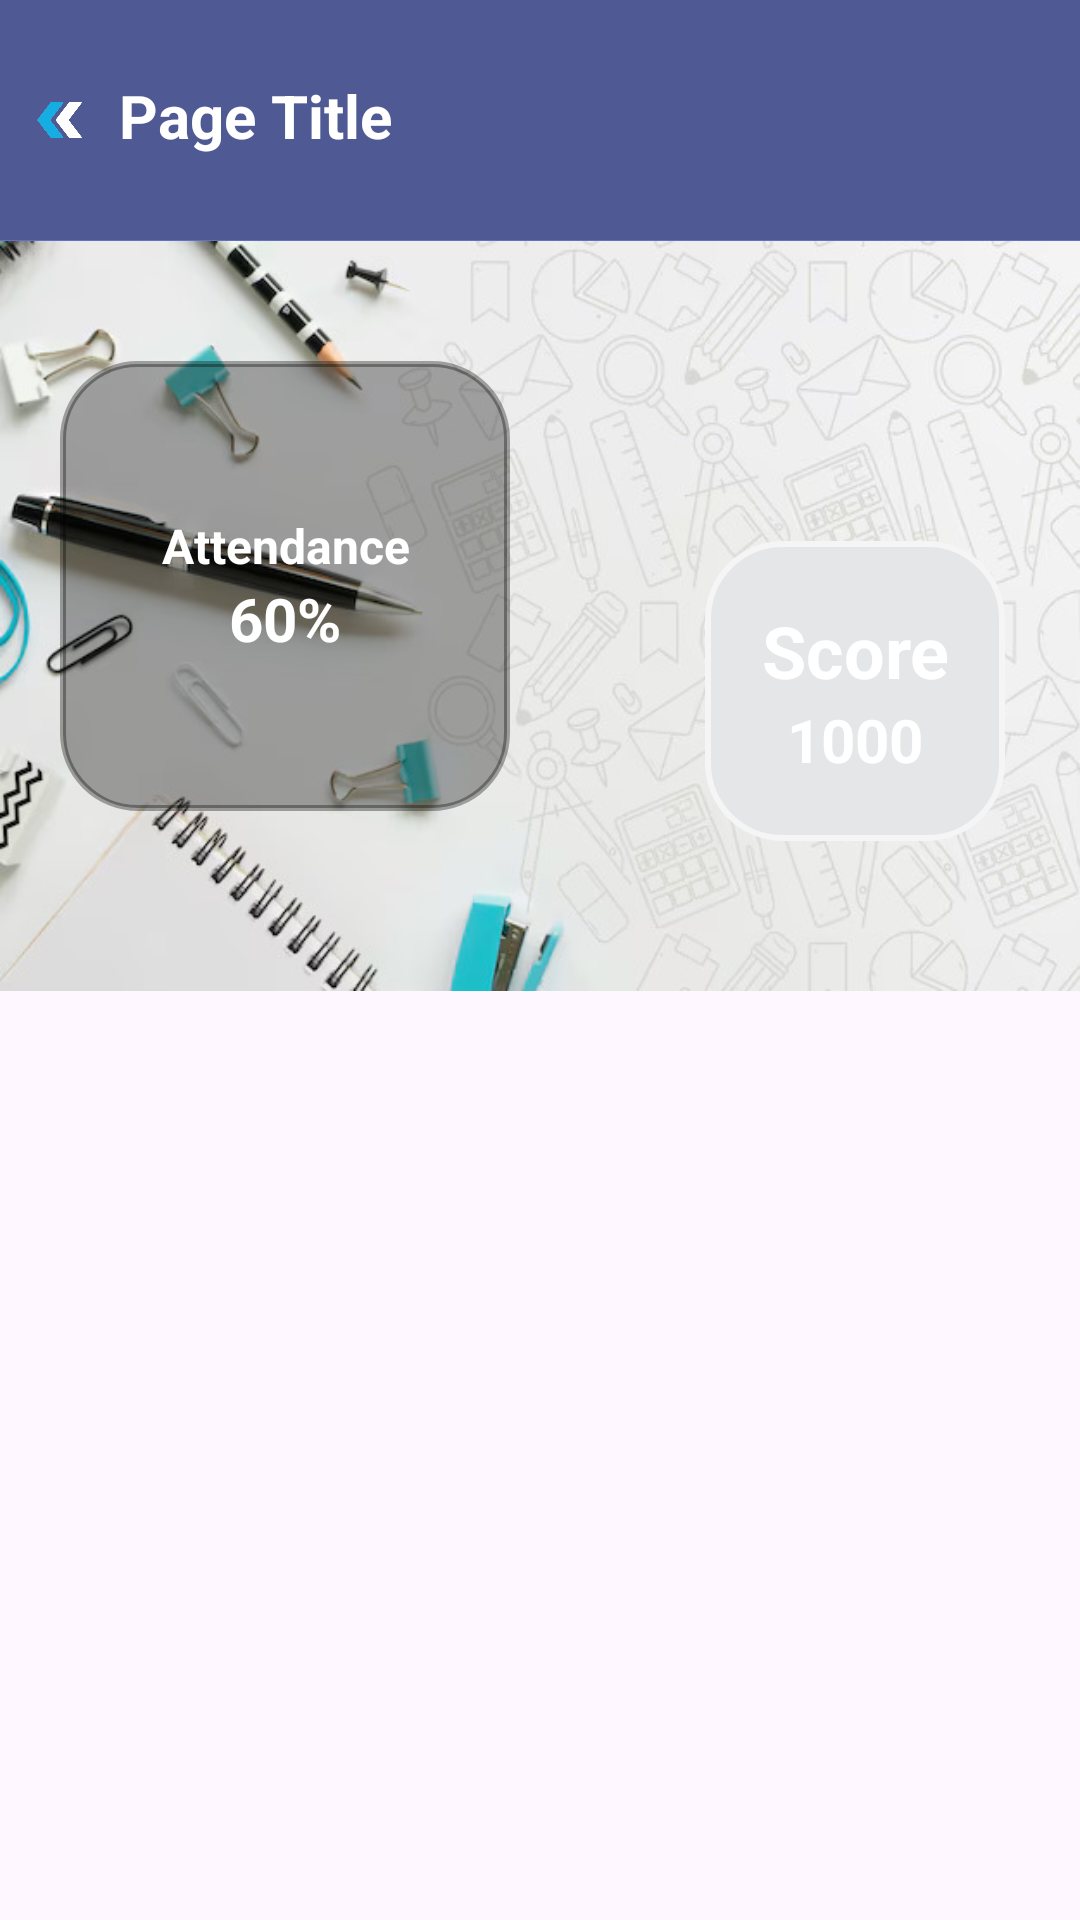

Point at icon controls on the screen. Image size 1080 x 1920, points as (x,y).
doule arrowpreview: (59,120)
